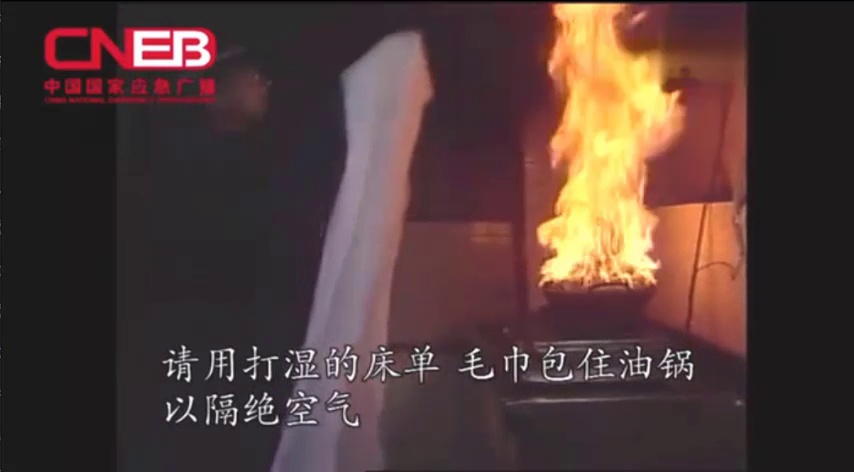fire: (530, 1, 696, 304)
